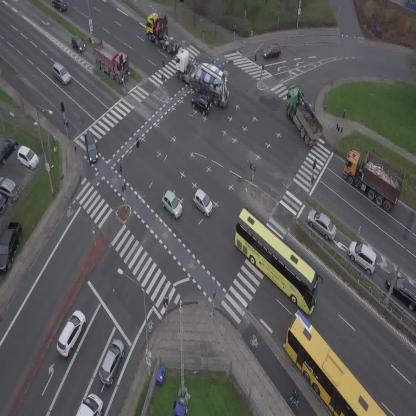bicycle: (290, 389, 300, 408)
bus: (218, 207, 335, 317), (267, 309, 387, 416)
car: (51, 308, 90, 358), (95, 336, 129, 387), (342, 237, 385, 276), (302, 205, 342, 244), (156, 189, 188, 220), (188, 188, 218, 217), (47, 60, 73, 87), (188, 91, 214, 116), (82, 131, 99, 163), (67, 33, 88, 55), (262, 44, 281, 58), (51, 0, 67, 10)
lorry: (333, 142, 412, 213), (164, 47, 241, 110), (276, 82, 329, 148), (84, 36, 138, 87), (139, 7, 182, 61), (76, 393, 103, 416)
